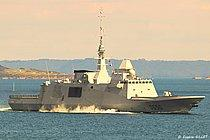MIL_Ship: (7, 9, 205, 115)
